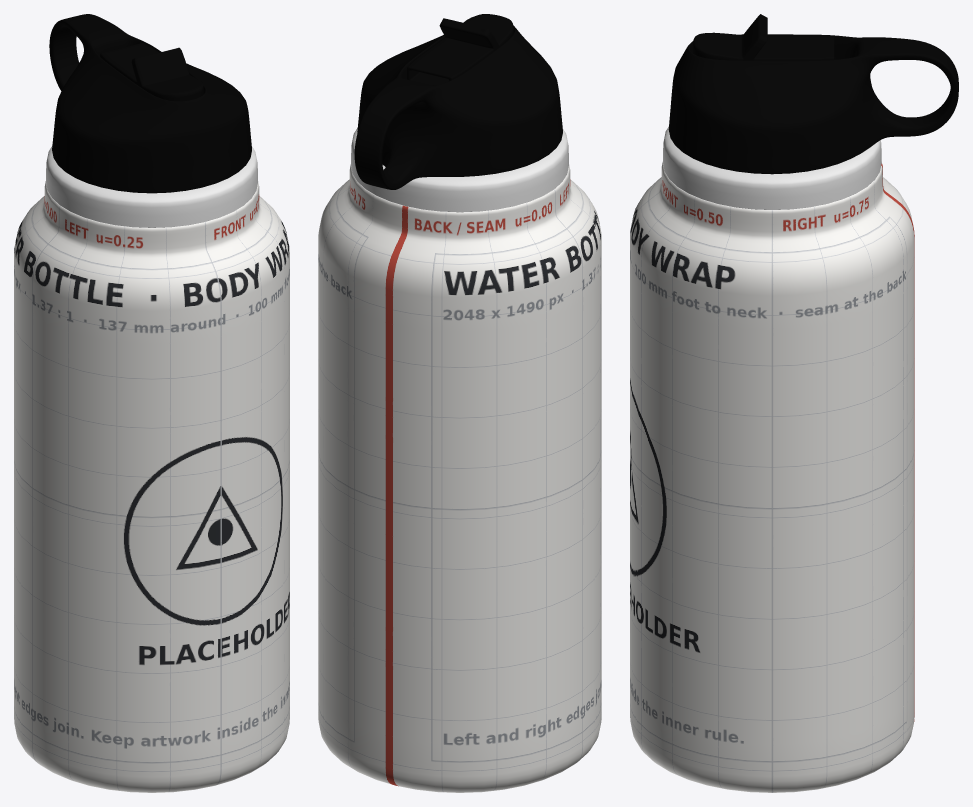
Rendered from water-bottle.glb.
3 renders of one model, left to right at view 1: azimuth 30°, elevation 25°; view 2: azimuth 150°, elevation 25°; view 3: azimuth 270°, elevation 25°, orthographic. The views are drawn at different scales.
Parts seen in each view (by area): view 1: Cylinder002, Object003_PVC Black Matte_0, Box002; view 2: Cylinder002, Object003_PVC Black Matte_0, Box002; view 3: Cylinder002, Object003_PVC Black Matte_0, Box002.
Part boxes in pixels (x1,y1,x2,y2): Cylinder002: (14, 146, 289, 792); Object003_PVC Black Matte_0: (49, 14, 251, 193); Box002: (100, 43, 203, 101); Cylinder002: (318, 128, 601, 792); Object003_PVC Black Matte_0: (354, 25, 562, 189); Box002: (407, 14, 513, 85); Cylinder002: (630, 126, 914, 792); Object003_PVC Black Matte_0: (668, 34, 958, 174); Box002: (693, 14, 834, 60).
Bounding box in the file's own units: 0.0437 × 0.1213 × 0.0506.
5 materials, 1 textured.
